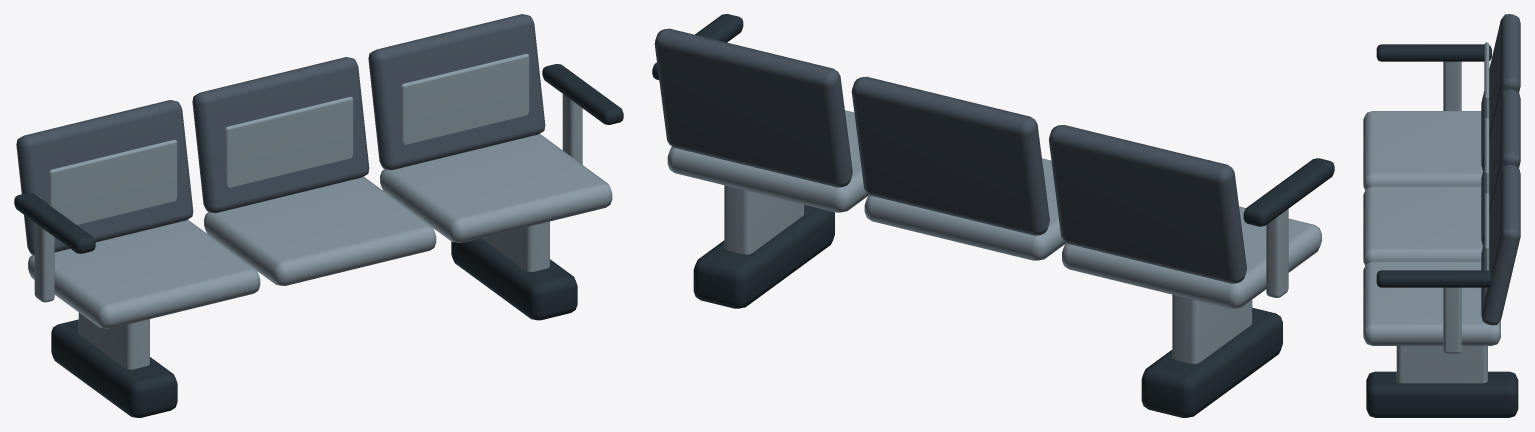
The model's file is TransitBench.fbx.
The picture shows the model from 3 angles, left to right: view 1: azimuth 30°, elevation 25°; view 2: azimuth 150°, elevation 25°; view 3: azimuth 270°, elevation 25°; orthographic projection. The views are drawn at different scales.
Parts seen in each view (by area): view 1: TransitBench_Steel, TransitBench_Graphite, TransitBench_Dark; view 2: TransitBench_Graphite, TransitBench_Steel, TransitBench_Dark; view 3: TransitBench_Steel, TransitBench_Dark, TransitBench_Graphite.
Part boxes in pixels (x1,y1,x2,y2): TransitBench_Steel: (28,54,612,369); TransitBench_Graphite: (16,14,545,255); TransitBench_Dark: (14,64,623,417); TransitBench_Graphite: (654,28,1246,283); TransitBench_Steel: (667,110,1321,363); TransitBench_Dark: (652,14,1334,417); TransitBench_Steel: (1363,42,1500,383); TransitBench_Dark: (1366,44,1518,417); TransitBench_Graphite: (1481,14,1520,325).
Bounding box in the file's own units: 274 × 112 × 77.67.
